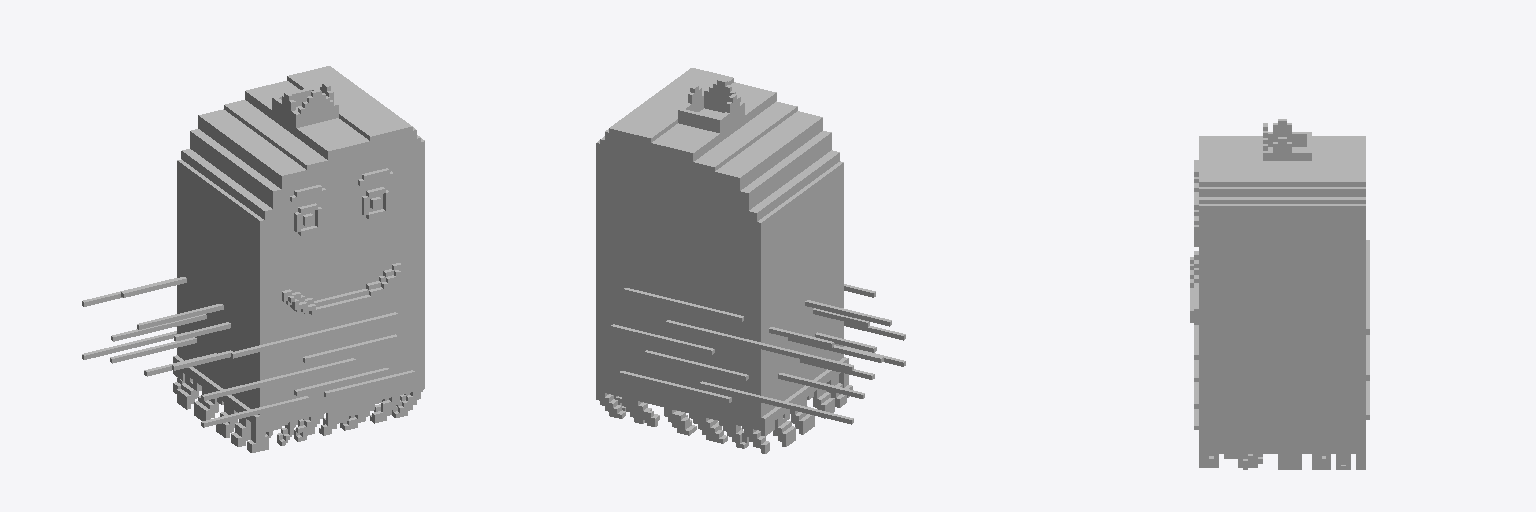
Rendered from ghost an 1.obj.
3 renders of one model, left to right at view 1: azimuth 30°, elevation 25°; view 2: azimuth 150°, elevation 25°; view 3: azimuth 270°, elevation 25°, orthographic.
Visible parts, largest first — view 1: object 1; view 2: object 1; view 3: object 1.
Part boxes in pixels (left/top/right/bottom): object 1: left=82, top=66, right=424, bottom=452; object 1: left=596, top=68, right=905, bottom=453; object 1: left=1190, top=119, right=1369, bottom=469.
Size of the model in its own units: 6.1 by 7.1 by 3.7.